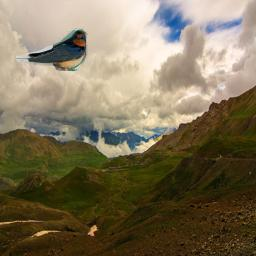Swallow: (16, 28, 88, 71)
